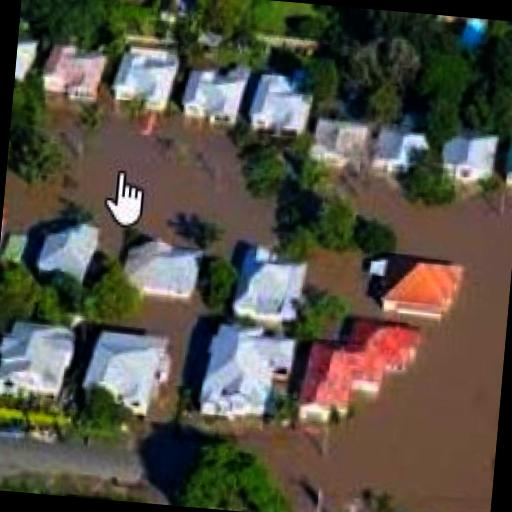flood: (241, 176, 512, 512), (2, 115, 276, 257), (128, 294, 207, 359)
house: (296, 315, 420, 435), (200, 320, 298, 428), (84, 330, 170, 419), (368, 250, 466, 324), (0, 316, 76, 408), (24, 216, 100, 300), (238, 246, 311, 328), (240, 69, 316, 140), (122, 234, 199, 302), (111, 38, 180, 108), (43, 45, 107, 109), (185, 61, 247, 126), (436, 128, 500, 186), (314, 116, 366, 168), (377, 123, 425, 175), (14, 39, 42, 81), (507, 138, 512, 185)
